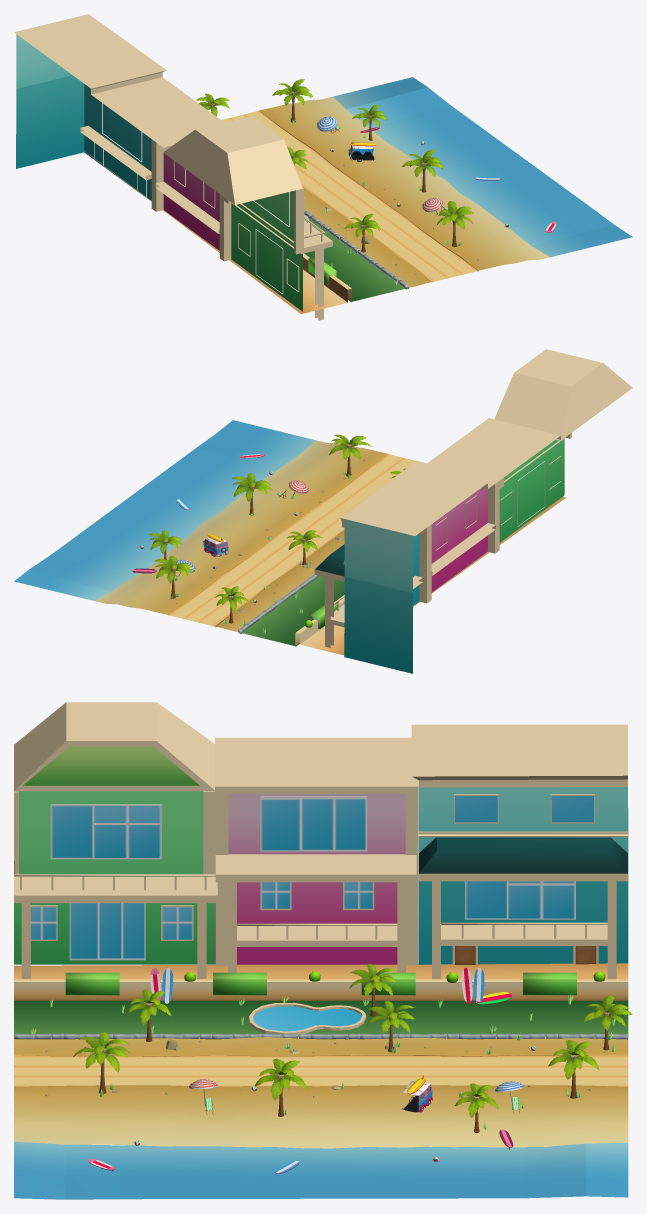
The model's file is Beach with road.fbx.
3 views of the same model, one above another, from view 1: azimuth 30°, elevation 25°; view 2: azimuth 150°, elevation 25°; view 3: azimuth 270°, elevation 25° (orthographic). The views are drawn at different scales.
Parts seen in each view (by area): view 1: Beach env, Road; view 2: Beach env, Road; view 3: Beach env, Road.
Boxes of the visible parts, left/top/right/bottom form: Beach env: left=14, top=14, right=632, bottom=320; Road: left=221, top=111, right=478, bottom=282; Beach env: left=14, top=349, right=632, bottom=673; Road: left=168, top=454, right=415, bottom=626; Beach env: left=14, top=702, right=632, bottom=1199; Road: left=14, top=1055, right=628, bottom=1086.
Bounding box in the file's own units: 2540 × 1058 × 2425.
Materials: 2 (2 with a texture image).
